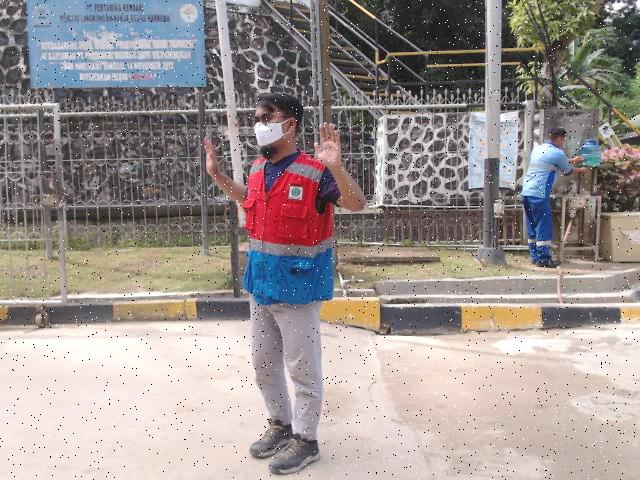mask: (251, 121, 285, 148)
safety-shoes: (267, 431, 323, 475), (245, 415, 296, 457)
